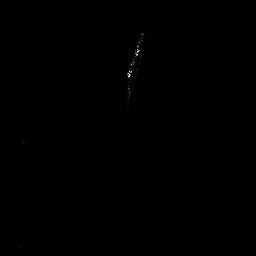ship: (125, 30, 143, 99)
